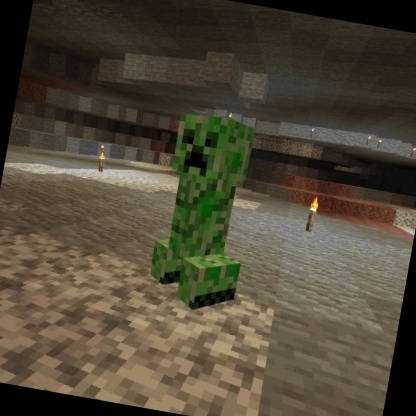creeper: (140, 106, 269, 321)
